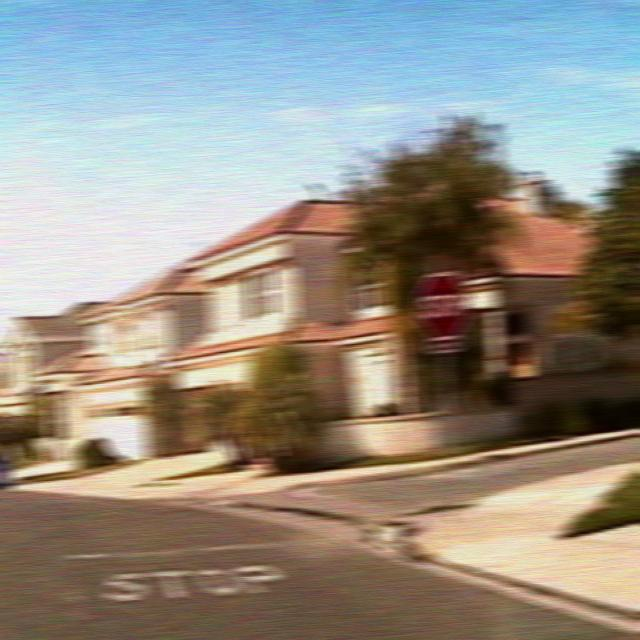stop_sign: (414, 270, 472, 338)
